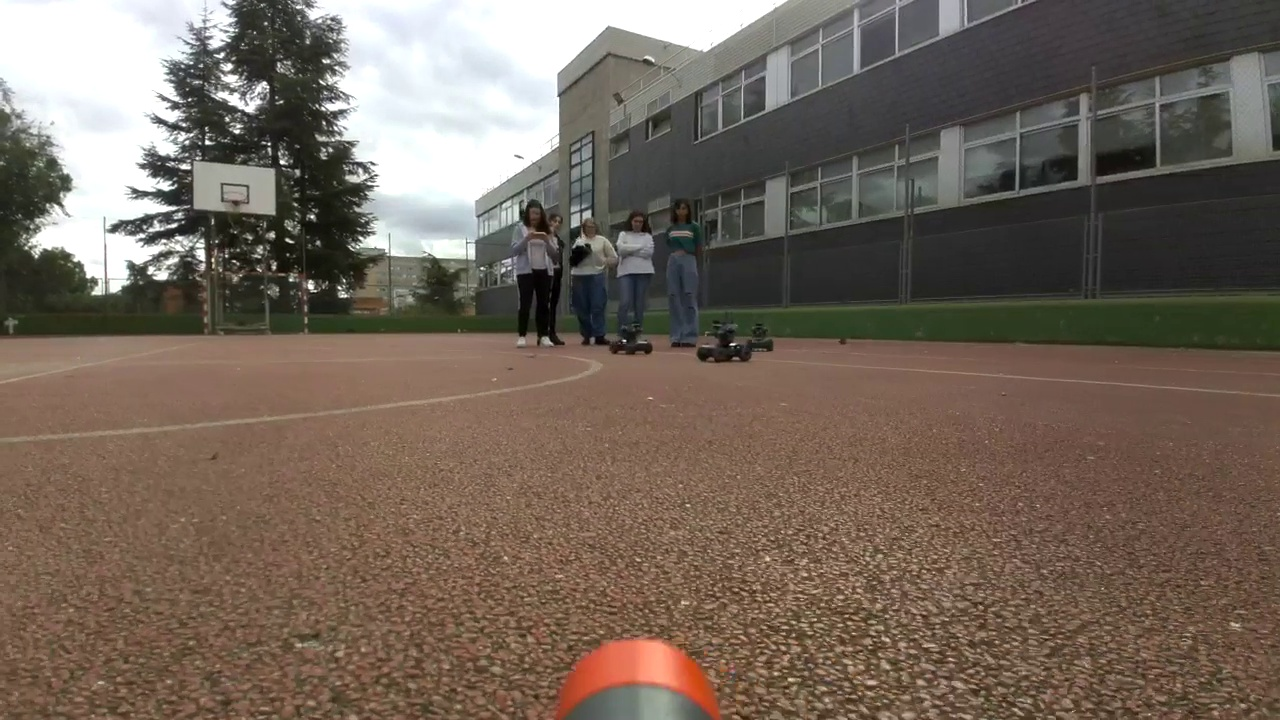robot: (695, 318, 749, 362), (611, 322, 654, 355), (748, 325, 774, 351)
